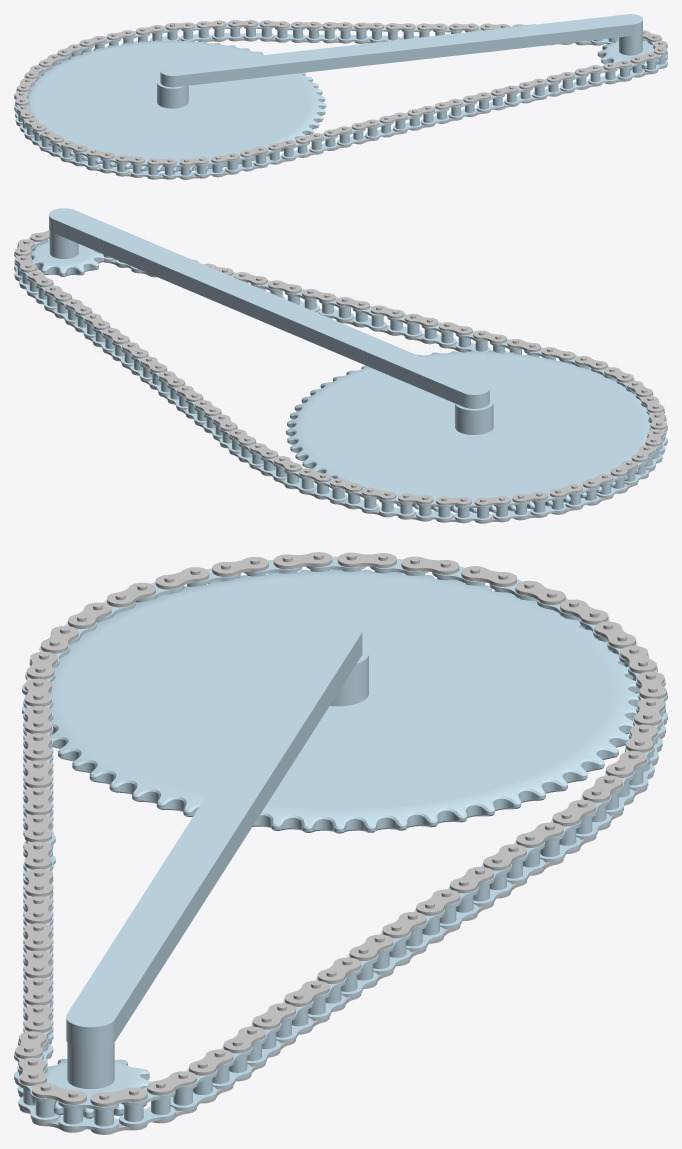
File: ChainSprocket.glb
3 views of the same model, one above another, from view 1: azimuth 30°, elevation 25°; view 2: azimuth 150°, elevation 25°; view 3: azimuth 270°, elevation 25° (orthographic). The views are drawn at different scales.
Parts seen in each view (by area): view 1: Part 1 (×4), Part 85, Part 25, Part 91, Part 79, Part 88, Part 82, Part 22, Part 28, Part 136, Part 130, Part 133 (+18 smaller); view 2: Part 1 (×4), Part 61, Part 64, Part 58, Part 4, Part 52, Part 55, Part 7, Part 10, Part 67, Part 70, Part 73 (+2 smaller); view 3: Part 1 (×3), Part 121, Part 118, Part 115, Part 82, Part 112, Part 124, Part 91, Part 94, Part 88, Part 97, Part 103 (+3 smaller).
Part boxes in pixels (x1=…): Part 1 (×4): x1=28, y1=14, x2=658, y2=172; Part 85: x1=275, y1=23, x2=305, y2=41; Part 25: x1=194, y1=158, x2=224, y2=176; Part 91: x1=338, y1=24, x2=368, y2=42; Part 79: x1=212, y1=22, x2=242, y2=40; Part 88: x1=306, y1=24, x2=336, y2=41; Part 82: x1=243, y1=22, x2=274, y2=40; Part 22: x1=225, y1=153, x2=254, y2=172; Part 28: x1=162, y1=160, x2=192, y2=178; Part 136: x1=532, y1=78, x2=560, y2=98; Part 130: x1=588, y1=66, x2=617, y2=84; Part 133: x1=560, y1=71, x2=588, y2=91; Part 1 (×4): x1=31, y1=208, x2=653, y2=512; Part 61: x1=416, y1=498, x2=453, y2=520; Part 64: x1=378, y1=494, x2=415, y2=517; Part 58: x1=454, y1=500, x2=491, y2=521; Part 4: x1=352, y1=305, x2=386, y2=330; Part 52: x1=530, y1=492, x2=566, y2=516; Part 55: x1=493, y1=497, x2=529, y2=520; Part 7: x1=387, y1=313, x2=422, y2=338; Part 10: x1=421, y1=322, x2=456, y2=346; Part 67: x1=345, y1=487, x2=379, y2=511; Part 70: x1=314, y1=477, x2=347, y2=502; Part 73: x1=284, y1=467, x2=316, y2=492; Part 1 (×3): x1=32, y1=569, x2=639, y2=1118; Part 121: x1=58, y1=1095, x2=118, y2=1131; Part 118: x1=119, y1=1087, x2=175, y2=1127; Part 115: x1=170, y1=1068, x2=217, y2=1110; Part 82: x1=540, y1=818, x2=581, y2=862; Part 112: x1=212, y1=1045, x2=252, y2=1089; Part 124: x1=18, y1=1078, x2=60, y2=1123; Part 91: x1=440, y1=885, x2=478, y2=929; Part 94: x1=406, y1=908, x2=444, y2=951; Part 88: x1=473, y1=863, x2=511, y2=906; Part 97: x1=373, y1=930, x2=411, y2=974; Part 103: x1=308, y1=976, x2=346, y2=1020.
Size of the model in its own units: 0.5264 by 0.0394 by 0.2633.
